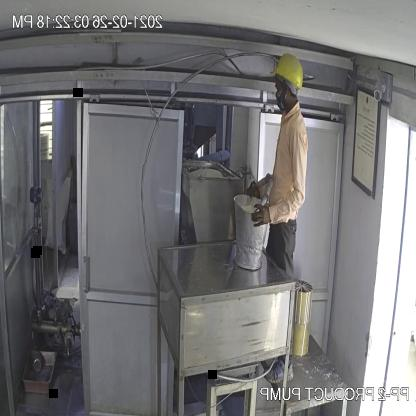helmet: (269, 46, 304, 92)
